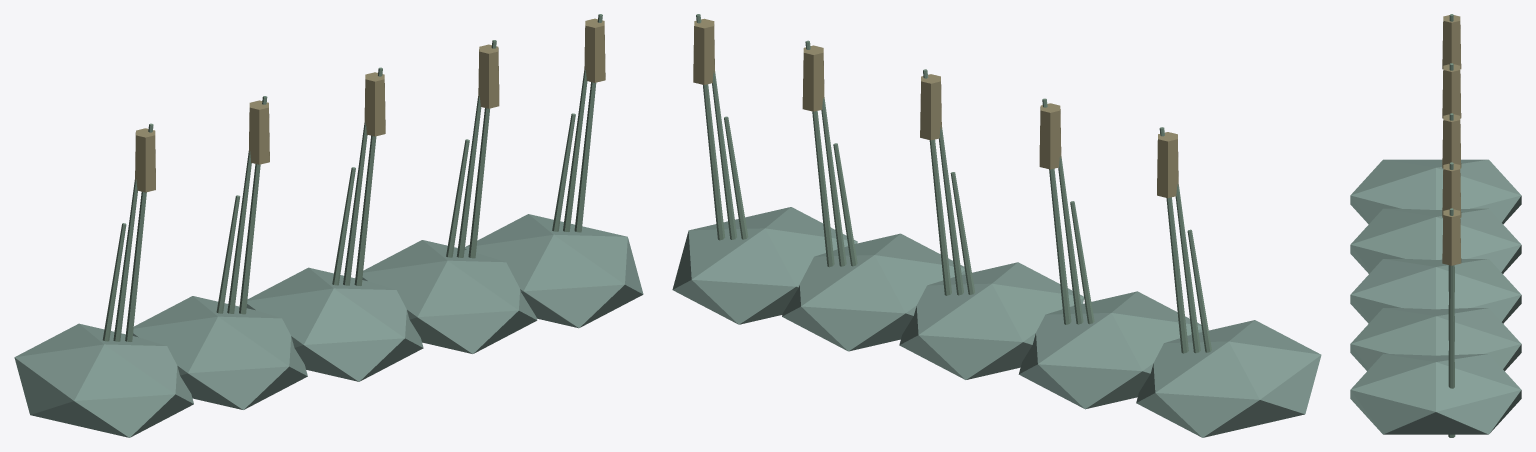
File: map-exclusive-v3__lake_13.glb
The picture shows the model from 3 angles, left to right: view 1: azimuth 30°, elevation 25°; view 2: azimuth 150°, elevation 25°; view 3: azimuth 270°, elevation 25°; orthographic projection. The views are drawn at different scales.
Visible parts, largest first — view 1: lake_13; view 2: lake_13; view 3: lake_13.
Part boxes in pixels (x1,y1,x2,y2): lake_13: (14,14,643,437); lake_13: (672,14,1321,437); lake_13: (1350,14,1521,437).
Bounding box in the file's own units: 3.1 × 1.35 × 0.8677.
